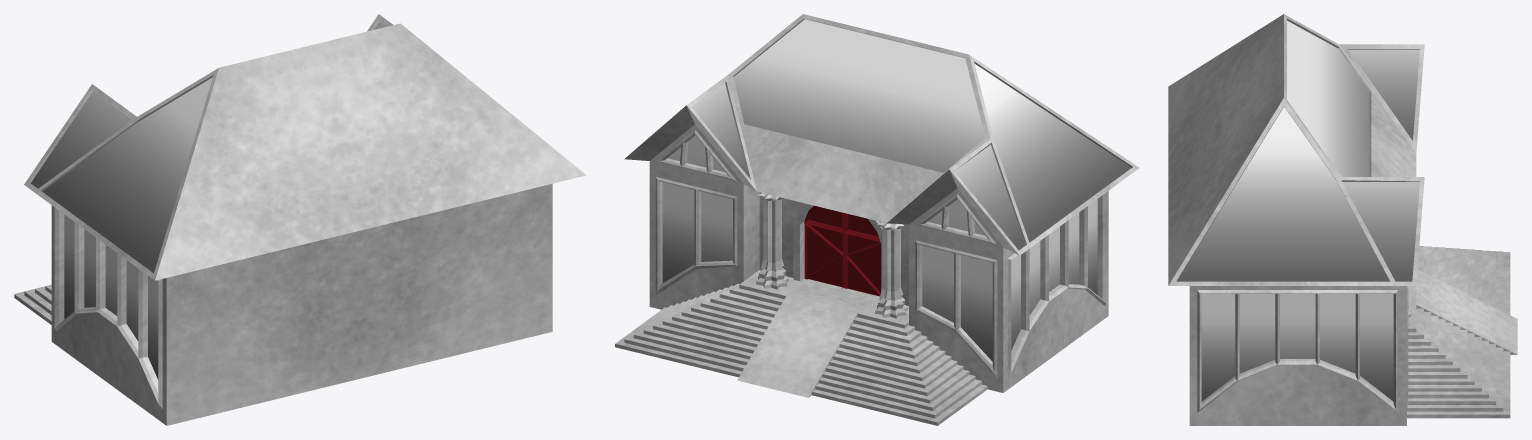
File: MuseumFixedPosition.fbx
3 views of the same model, side by side, from view 1: azimuth 30°, elevation 25°; view 2: azimuth 150°, elevation 25°; view 3: azimuth 270°, elevation 25° (orthographic). The views are drawn at different scales.
Parts seen in each view (by area): view 1: Window Borders.001; view 2: Window Borders.001; view 3: Window Borders.001.
Part boxes in pixels (left/top/right/bottom): Window Borders.001: left=14, top=14, right=586, bottom=425; Window Borders.001: left=615, top=14, right=1139, bottom=425; Window Borders.001: left=1168, top=14, right=1517, bottom=425.
Bounding box in the file's own units: 14.77 × 10.93 × 9.7.
Materials: 3 (2 with a texture image).
